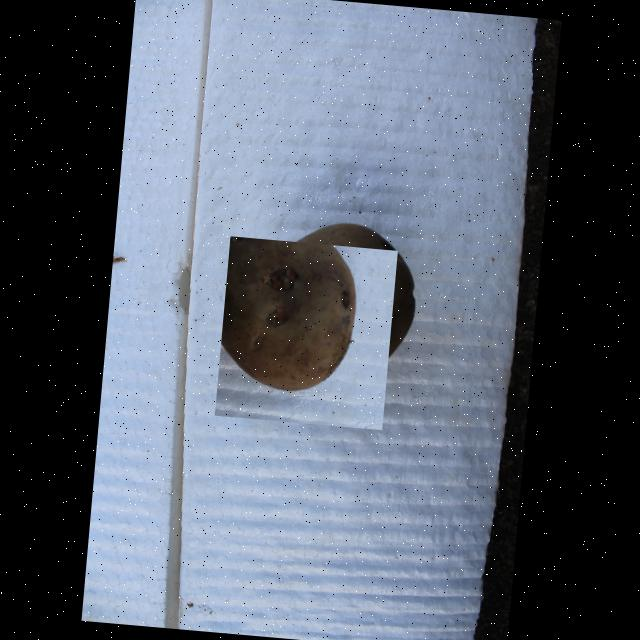Diseased-fungal potato: (214, 236, 396, 430)
